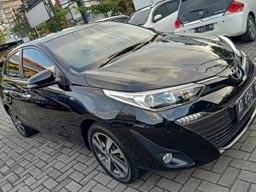plat: (237, 86, 256, 127)
